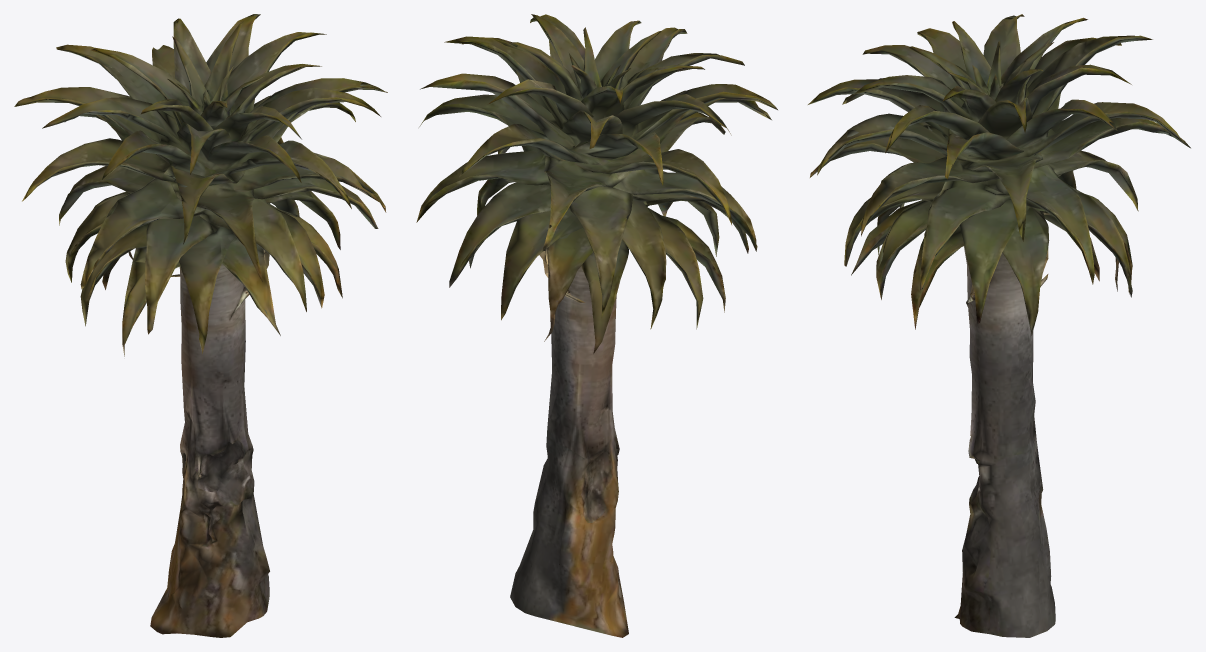
Rendered from quiver_tree_02.glb.
3 renders of one model, left to right at view 1: azimuth 30°, elevation 25°; view 2: azimuth 150°, elevation 25°; view 3: azimuth 270°, elevation 25°, orthographic.
Parts seen in each view (by area): view 1: quiver_tree_02; view 2: quiver_tree_02; view 3: quiver_tree_02.
Boxes of the visible parts, box(x1,y1,x2,y2) form: quiver_tree_02: box(14, 14, 387, 637); quiver_tree_02: box(416, 14, 777, 637); quiver_tree_02: box(808, 14, 1190, 637).
Size of the model in its own units: 0.8646 by 1.47 by 0.8805.
1 material, 1 textured.
